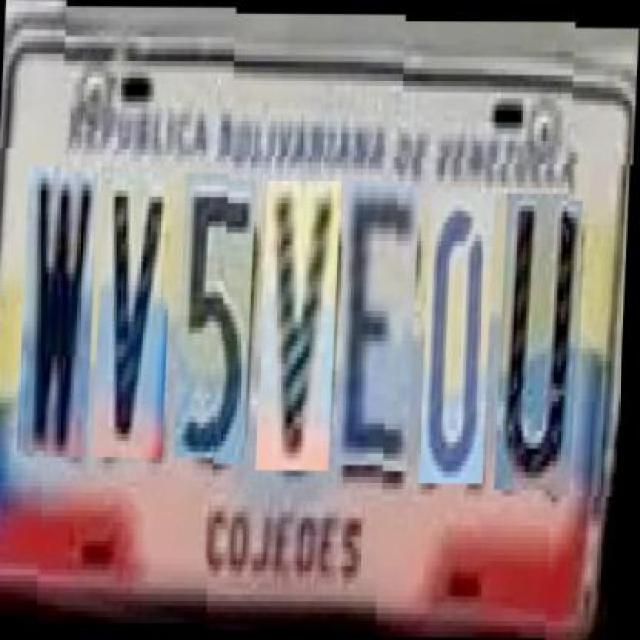0: (423, 180, 497, 471)
5: (178, 173, 258, 458)
e: (340, 174, 422, 458)
u: (500, 180, 586, 478)
v: (260, 173, 343, 464), (96, 173, 176, 458)
w: (21, 172, 101, 457)
